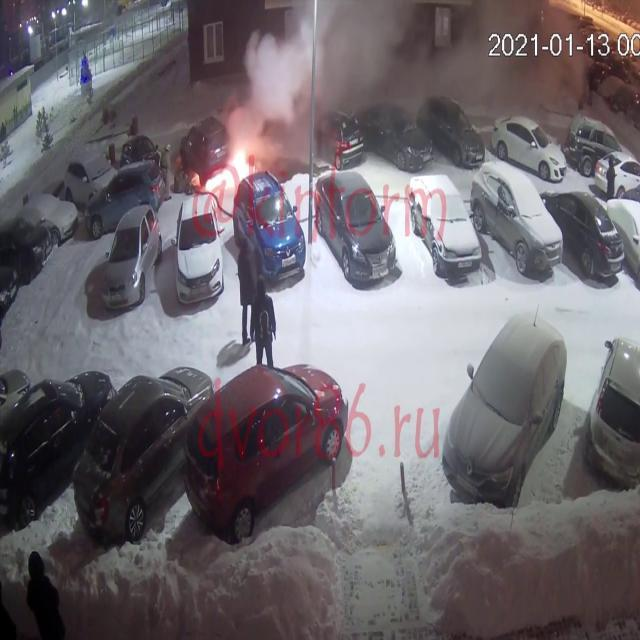Fire: (195, 135, 259, 193)
Smoke: (233, 0, 615, 152)
